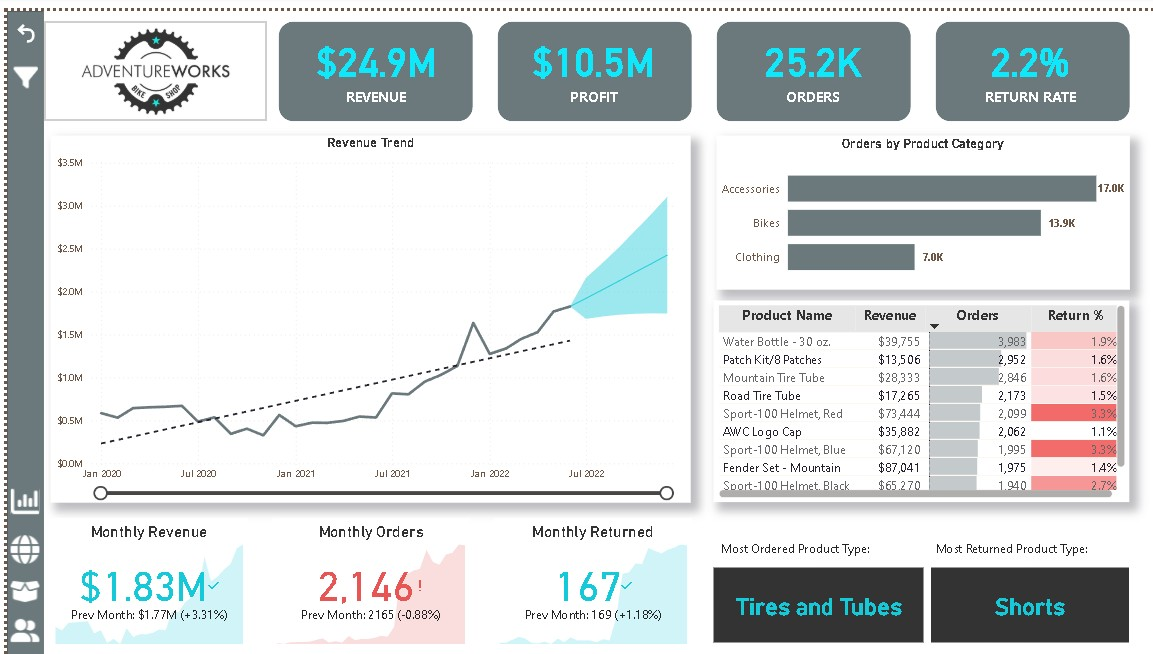

What the dashboard file says about the page in this screenshot:
{"tool":"powerbi","page":{"name":"Executive Dashboard","canvas":[1280,720],"ordinal":0},"visuals":[{"type":"image","box":[41,11,248,111],"z":0},{"type":"actionButton","box":[0,525.5,40.9,40],"z":0,"group":"g1"},{"type":"shape","box":[301,11,216,111],"z":1000},{"type":"actionButton","box":[0,578.2,40.9,40],"z":1000,"group":"g1"},{"type":"shape","box":[544.3,11,216,111],"z":2000},{"type":"actionButton","box":[0,625.5,40.9,40],"z":2000,"group":"g1"},{"type":"shape","box":[787.7,11,216,111],"z":3000},{"type":"actionButton","box":[0,668.2,40.9,40],"z":3000,"group":"g1"},{"type":"shape","box":[1031,11,216,111],"z":4000},{"type":"shape","box":[0,0,40.9,720],"z":5000},{"type":"card","fields":{"Values":["_Measure Table.Total Revenue"]},"box":[276,0,266,124],"z":6000},{"type":"card","fields":{"Values":["_Measure Table.Profit"]},"box":[518.7,0,266,124],"z":7000},{"type":"card","fields":{"Values":["_Measure Table.Total Orders"]},"box":[761.3,0,266,124],"z":8000},{"type":"card","fields":{"Values":["_Measure Table.Return Rate"]},"box":[1004,0,266,124],"z":9000},{"type":"lineChart","title":"Revenue Trend","fields":{"Category":["Calendar Lookup.Date Hierarchy.Year","Calendar Lookup.Date Hierarchy.Start of Month","Calendar Lookup.Date Hierarchy.Start of Week","Calendar Lookup.Date Hierarchy.Date"],"Y":["_Measure Table.Total Revenue"]},"box":[49,138,711,408],"z":10000},{"type":"clusteredBarChart","title":"Orders by Product Category","fields":{"Category":["Product Categories Lookup.Category Name"],"Y":["_Measure Table.Total Orders"]},"box":[788,138,459,171],"z":11000},{"type":"tableEx","fields":{"Values":["Product Lookup.Product Name","_Measure Table.Total Revenue","_Measure Table.Total Orders","_Measure Table.Return Rate"]},"box":[785,322,462,224],"z":12000},{"type":"kpi","title":"Monthly Revenue","fields":{"Indicator":["_Measure Table.Total Revenue"],"TrendLine":["Calendar Lookup.Start of Month"],"Goal":["_Measure Table.Previous Month Revenue"]},"box":[49,563,219,145],"z":13000},{"type":"kpi","title":"Monthly Orders","fields":{"TrendLine":["Calendar Lookup.Start of Month"],"Indicator":["_Measure Table.Total Orders"],"Goal":["_Measure Table.Previous Month Order"]},"box":[295,563,219,145],"z":14000},{"type":"kpi","title":"Monthly Returned","fields":{"TrendLine":["Calendar Lookup.Start of Month"],"Goal":["_Measure Table.Previous Month Quantity Returned"],"Indicator":["_Measure Table.Quantity Returned"]},"box":[541,563,219,145],"z":15000},{"type":"card","fields":{"Values":["Min(Product Subcategories Lookup.Subcategory Name)"]},"box":[785,618,233,83],"z":16000},{"type":"textbox","box":[788,582,197,36],"z":17000},{"type":"card","fields":{"Values":["Min(Product Subcategories Lookup.Subcategory Name)"]},"box":[1027,618,220,83],"z":18000},{"type":"textbox","box":[1027,582,197,36],"z":19000},{"type":"actionButton","box":[6.3,10.7,34.9,29.6],"z":20000},{"type":"group","id":"g1","title":"Page Navigation Icon","box":[0,525.5,40.9,182.7],"z":21000},{"type":"actionButton","box":[3.3,54.2,35,37.5],"z":22000}]}

Visuals, with their boxes on the page's 1280x720 design canvas (x1, y1, x2, y2). These are canvas units, not pixel positions in the 1153x654 screenshot, which may show the page scaled, cropped or inside an application window:
image: bbox(41, 11, 289, 122)
actionButton: bbox(0, 526, 41, 566)
shape: bbox(301, 11, 517, 122)
actionButton: bbox(0, 578, 41, 618)
shape: bbox(544, 11, 760, 122)
actionButton: bbox(0, 626, 41, 666)
shape: bbox(788, 11, 1004, 122)
actionButton: bbox(0, 668, 41, 708)
shape: bbox(1031, 11, 1247, 122)
shape: bbox(0, 0, 41, 720)
card - _Measure Table.Total Revenue: bbox(276, 0, 542, 124)
card - _Measure Table.Profit: bbox(519, 0, 785, 124)
card - _Measure Table.Total Orders: bbox(761, 0, 1027, 124)
card - _Measure Table.Return Rate: bbox(1004, 0, 1270, 124)
"Revenue Trend" lineChart: bbox(49, 138, 760, 546)
"Orders by Product Category" clusteredBarChart: bbox(788, 138, 1247, 309)
tableEx - Product Lookup.Product Name x _Measure Table.Total Revenue: bbox(785, 322, 1247, 546)
"Monthly Revenue" kpi: bbox(49, 563, 268, 708)
"Monthly Orders" kpi: bbox(295, 563, 514, 708)
"Monthly Returned" kpi: bbox(541, 563, 760, 708)
card - Min(Product Subcategories Lookup.Subcategory Name): bbox(785, 618, 1018, 701)
textbox: bbox(788, 582, 985, 618)
card - Min(Product Subcategories Lookup.Subcategory Name): bbox(1027, 618, 1247, 701)
textbox: bbox(1027, 582, 1224, 618)
actionButton: bbox(6, 11, 41, 40)
"Page Navigation Icon" group: bbox(0, 526, 41, 708)
actionButton: bbox(3, 54, 38, 92)
